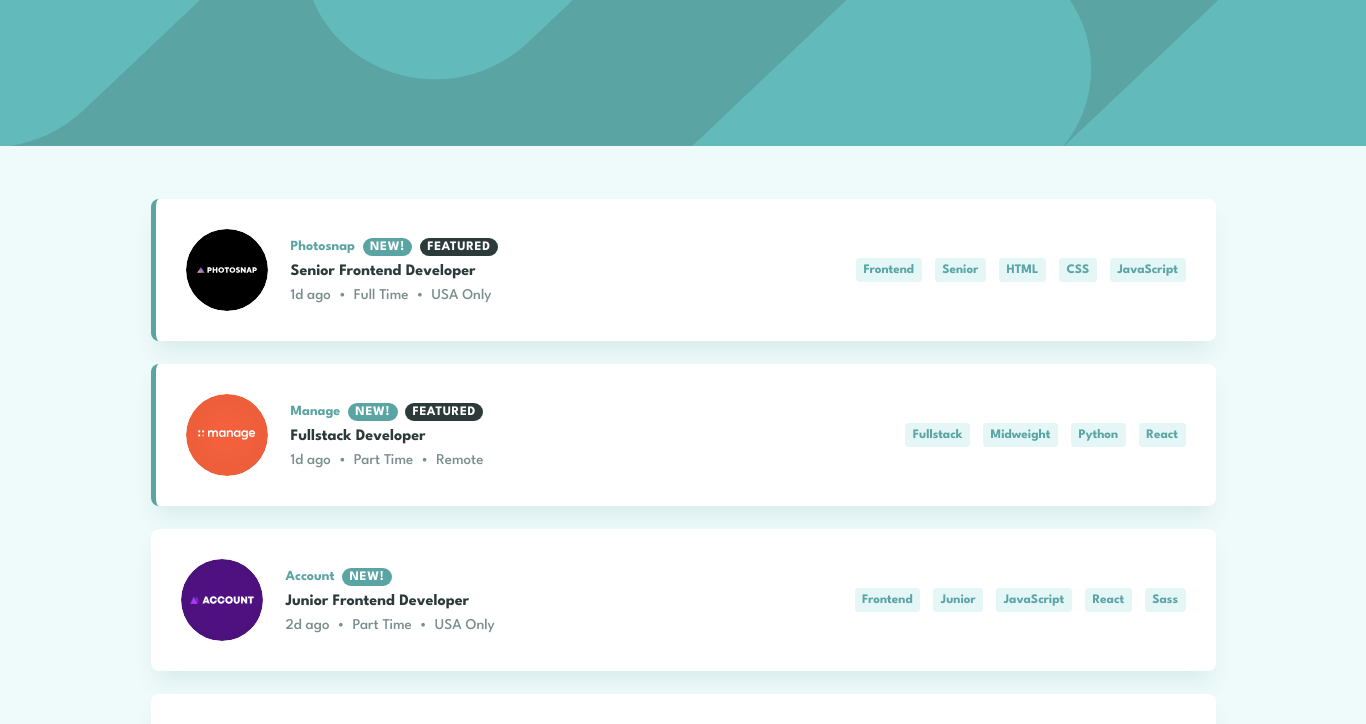
App — filter integration › clicking a tag adds it to FilterBar and narrows the list
Click the button with aria-label "filter by frontend": point(889, 270) [856, 258, 922, 282]
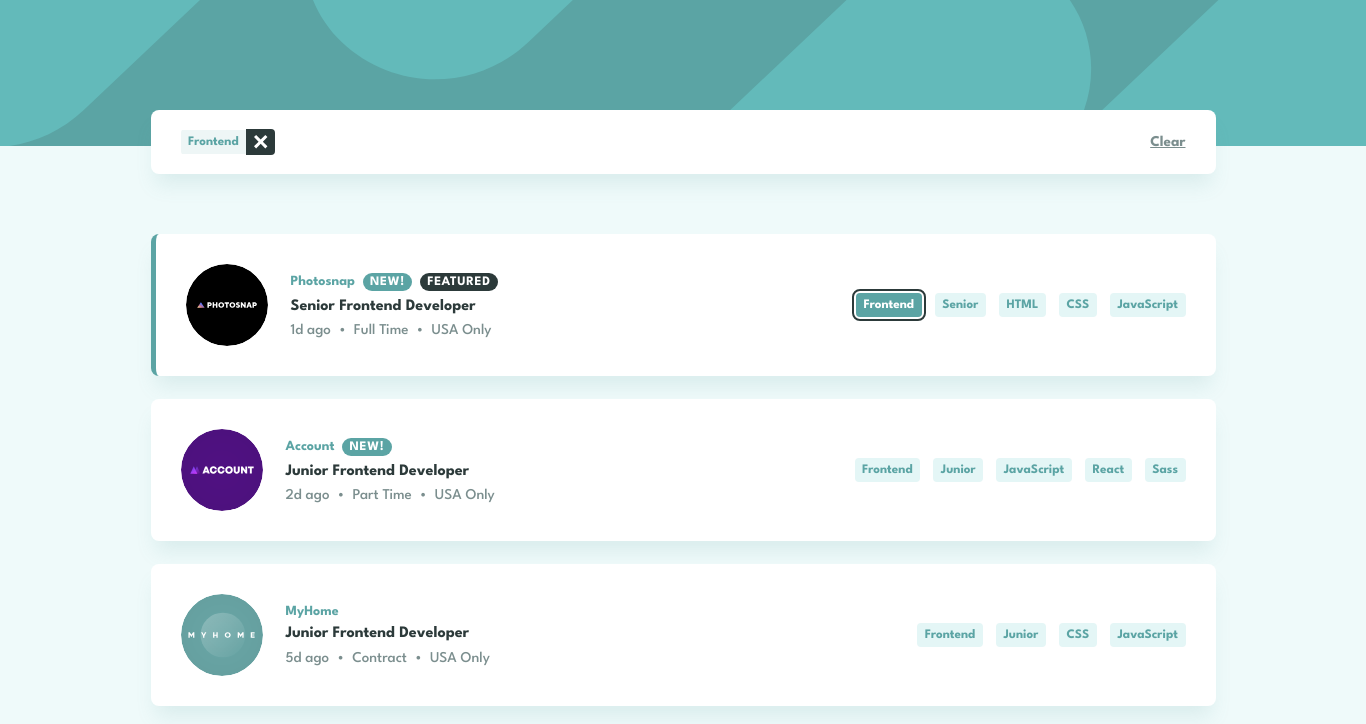
Expected: the element named "Senior Frontend Developer at Photosnap" is shown, [150, 234, 1216, 376]
Expected: the element named "active filters" is shown, [150, 110, 1216, 174]
Expected: the text "Frontend" is shown, [180, 130, 246, 154]
